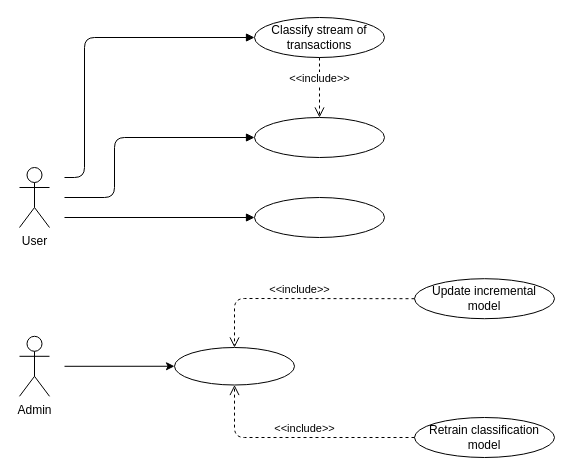
This 572x475 diagram has some shape labels left out. The shapes that lost their labels are listed below. From the top down, each one's box as (x1, y1, x2, y2) in pixels, then its label:
(254, 116, 384, 158): Classify single transaction
(254, 196, 384, 238): Request list of commands
(174, 346, 294, 385): Enter password
